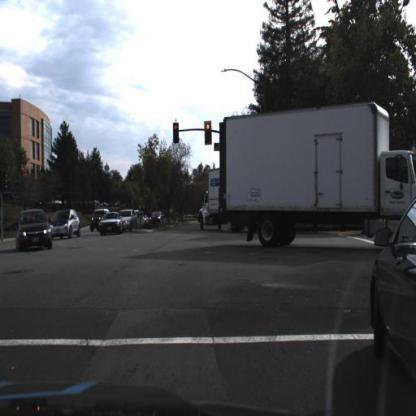car: (368, 189, 414, 411), (370, 188, 415, 372), (12, 203, 55, 250), (12, 208, 50, 253), (48, 206, 80, 239), (97, 208, 123, 236), (98, 210, 125, 236), (88, 209, 110, 235), (118, 209, 140, 230), (146, 208, 164, 228)
trafficLight-Red: (202, 118, 213, 146)
trafficLight-RedLeft: (172, 119, 180, 146)
truck: (220, 100, 416, 258), (199, 166, 222, 236)
